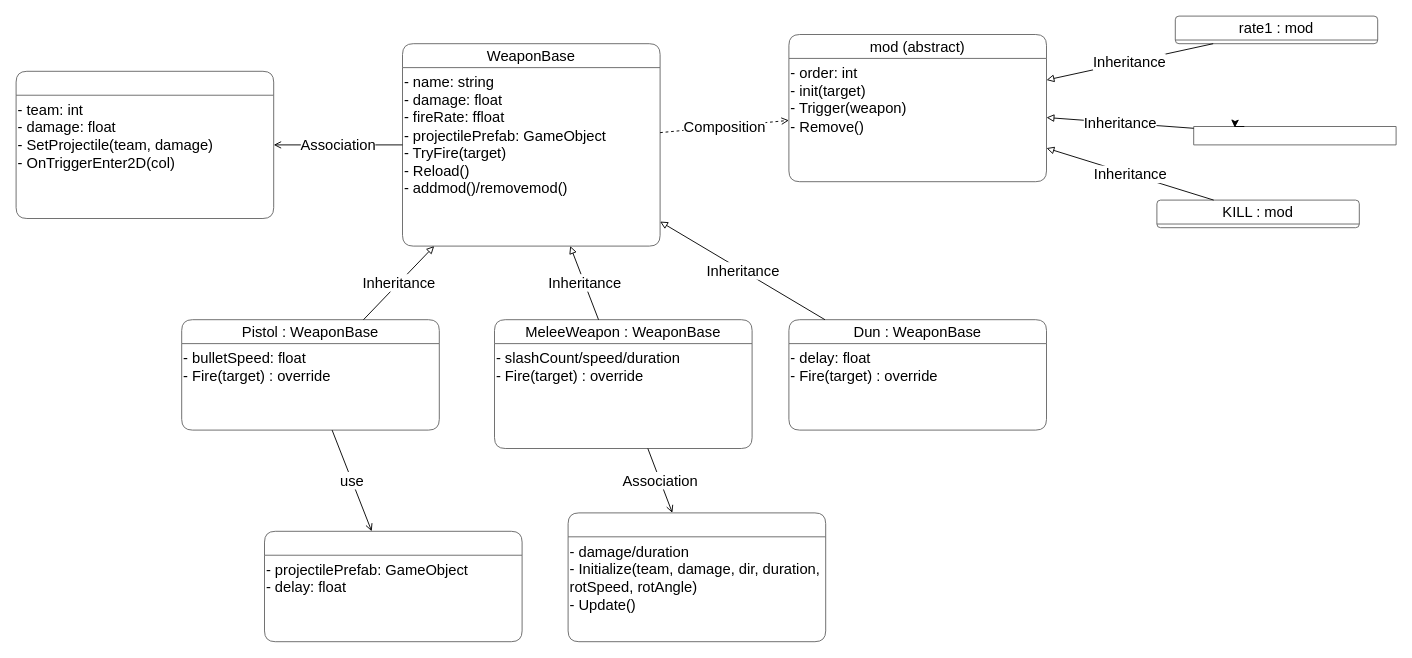
Some shapes in this 1412 by 658 pixel diagram are drawn without their labels. The shapes that lost their labels are listed below. From the top down, each one's box as (x1, y1, x2, y2) in pixels, then its label:
(15, 70, 274, 218): profile (Projectile)
(1193, 126, 1396, 145): ice : mod
(264, 530, 522, 642): ProfileInfo
(567, 512, 826, 642): SlashProjectile
